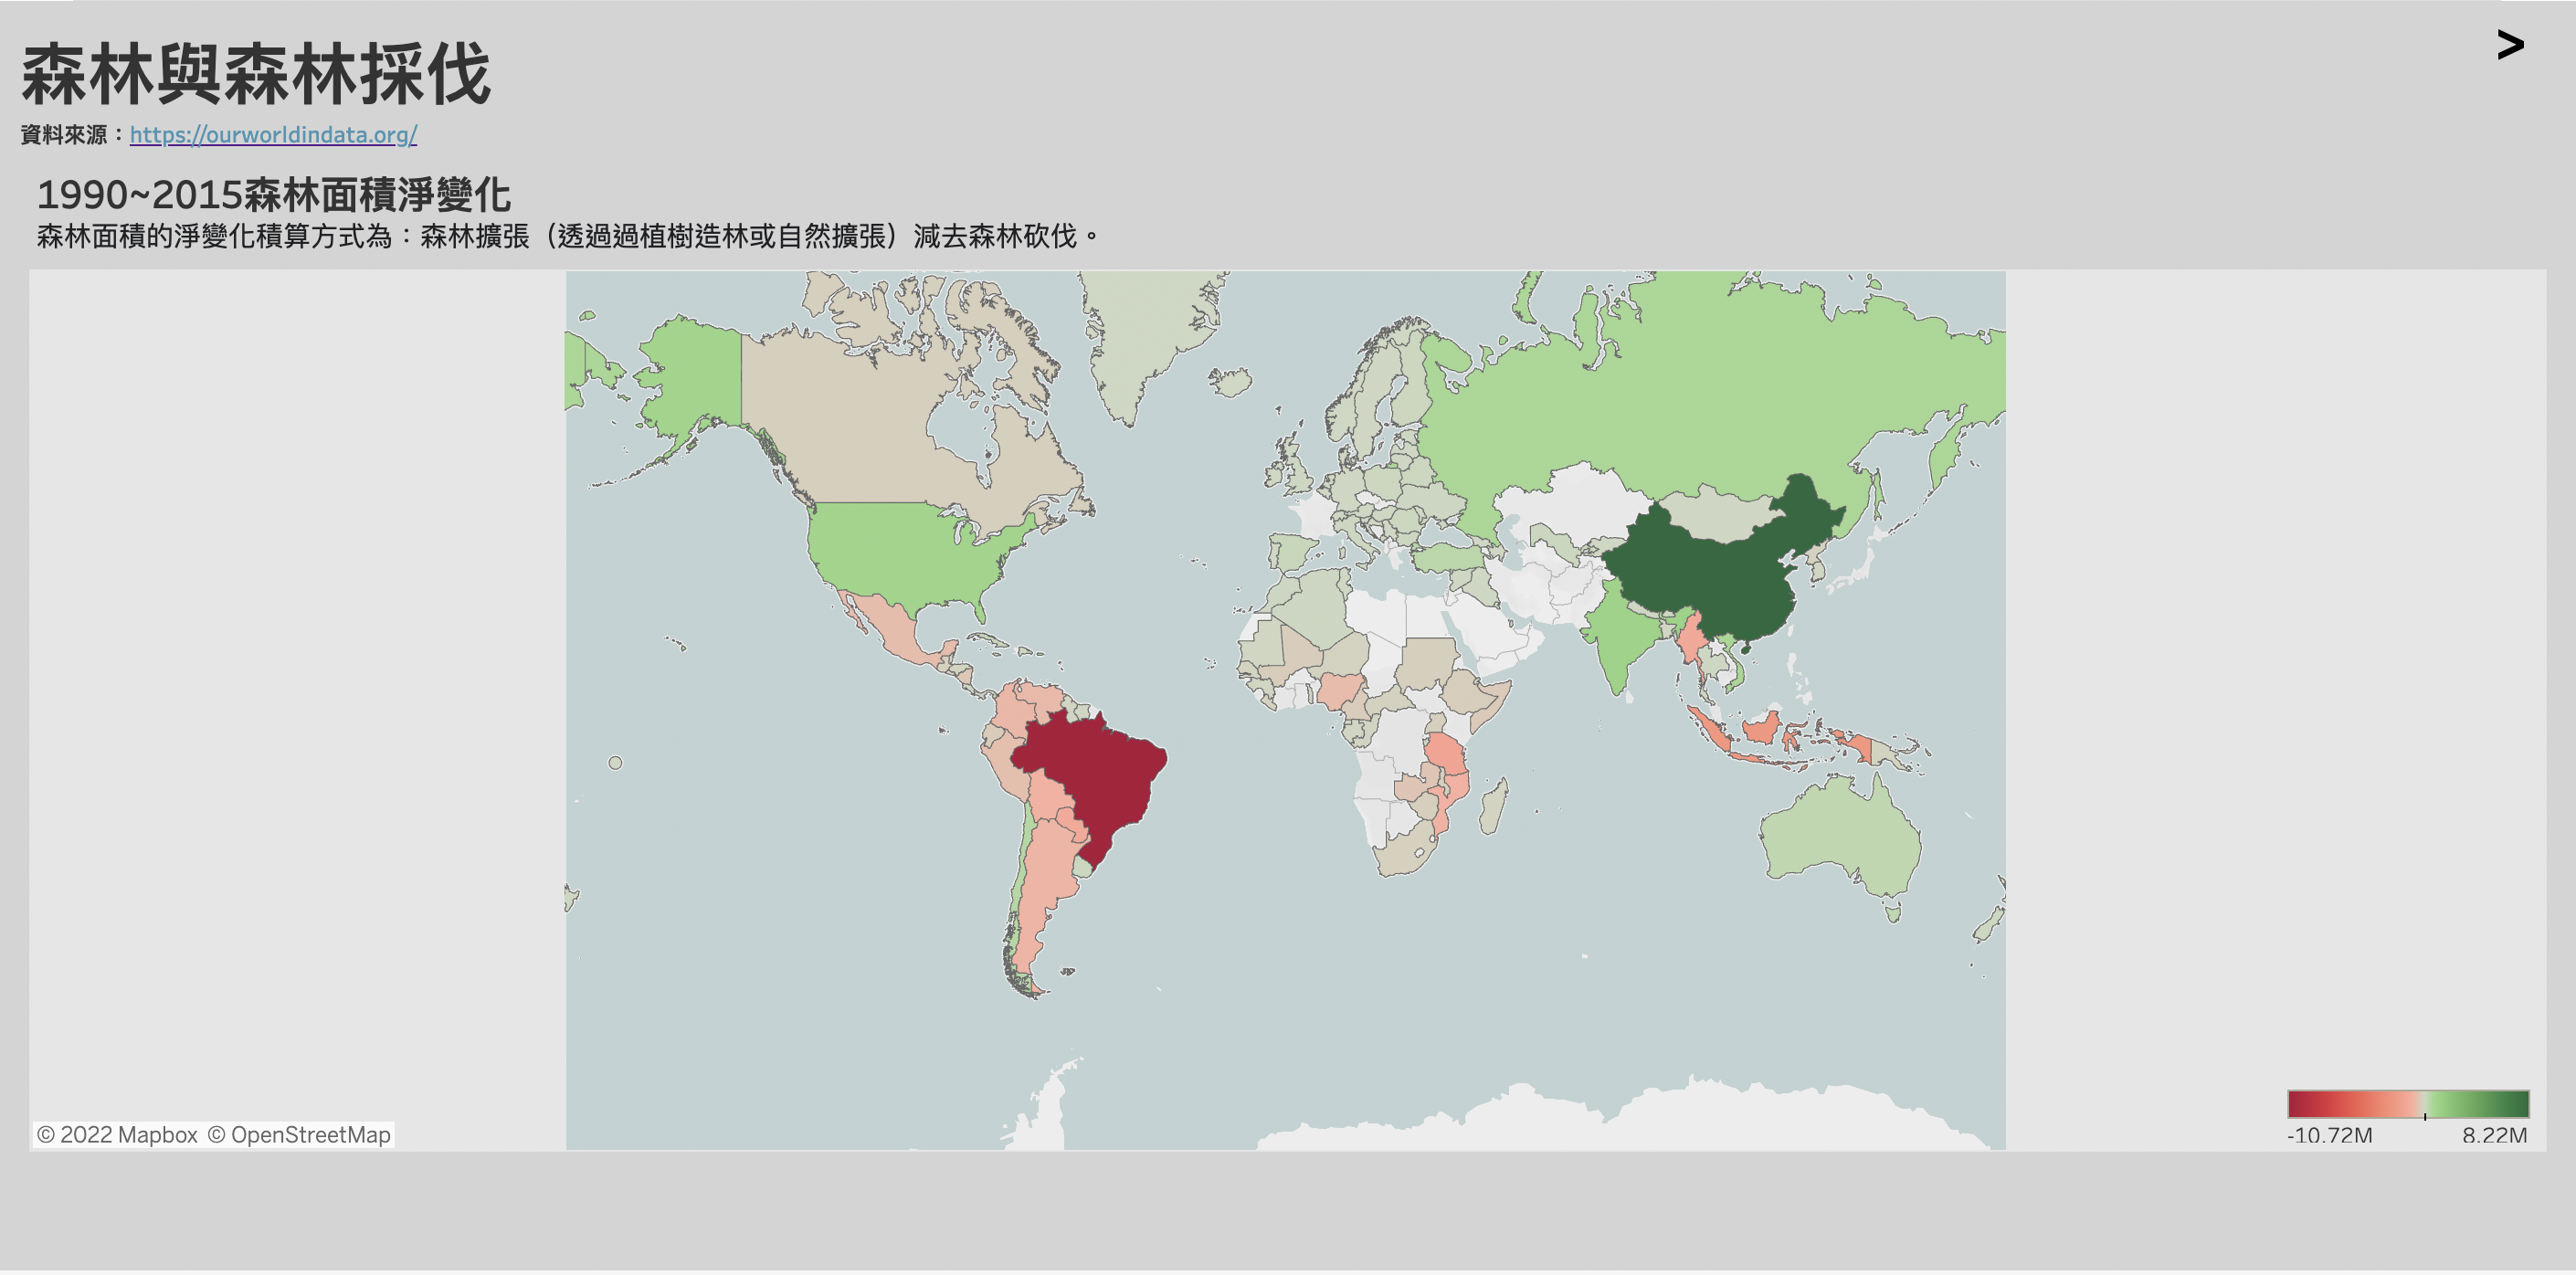

What the dashboard file says about the page in this screenshot:
{"tool":"tableau","page":{"name":"Dashboard 1","canvas":[1000,1000],"units":"permille","ordinal":0},"visuals":[{"type":"dashboard-object","box":[950.6,1.2,47.7,60.6]},{"type":"title","box":[6.6,12,986.9,117.3]},{"type":"worksheet","title":"森林面積淨變化","mark":"Multipolygon","box":[11.9,120,977,785.9]},{"type":"legend","title":"森林面積淨變化","param":"[federated.1gufqh31tzzyf61bkzixo1jjo1ot].[sum:Annual net change in forest area:q","box":[885.3,851.5,100.1,48.3]}]}

Visuals, with their boxes on the dashboard's canvas, which has no fixed pixel size, in thousandths of its width and height (x1, y1, x2, y2). These are canvas units, not pixel positions in the 2576x1275 screenshot, which may show the page scaled, cropped or inside an application window:
dashboard-object: [left=951, top=1, right=998, bottom=62]
title: [left=7, top=12, right=994, bottom=129]
"森林面積淨變化" worksheet (Multipolygon marks): [left=12, top=120, right=989, bottom=906]
"森林面積淨變化" legend: [left=885, top=852, right=985, bottom=900]
